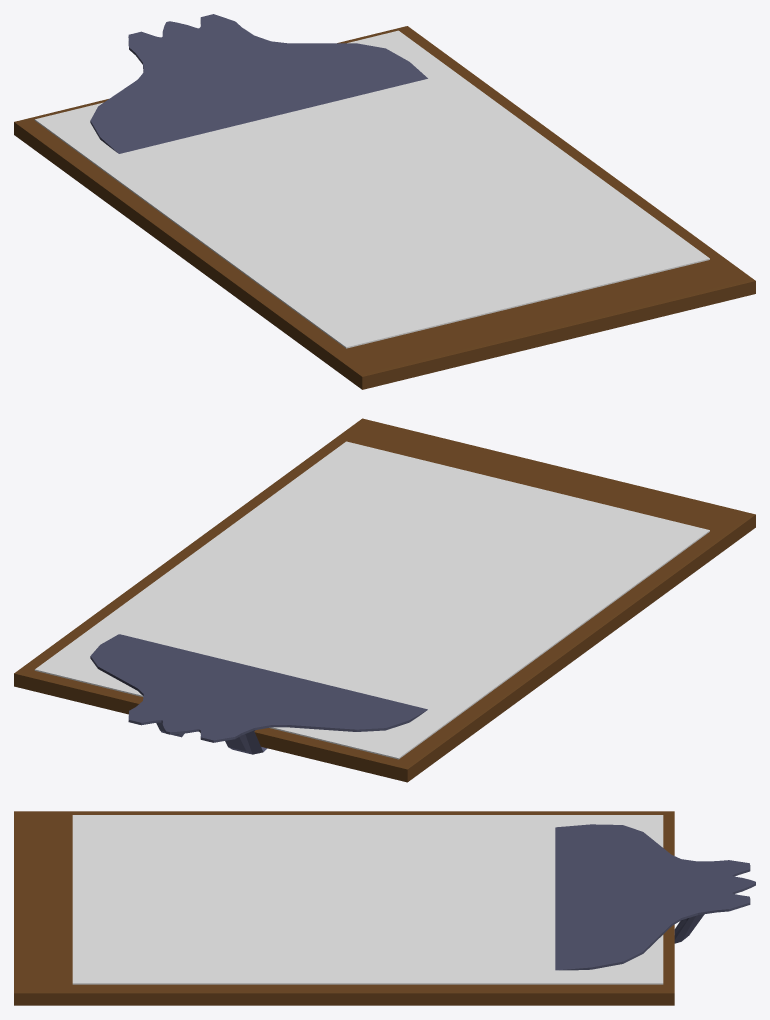
File: clipboard.fbx
3 views of the same model, one above another, from view 1: azimuth 30°, elevation 25°; view 2: azimuth 150°, elevation 25°; view 3: azimuth 270°, elevation 25° (orthographic). The views are drawn at different scales.
Parts seen in each view (by area): view 1: Cube; view 2: Cube; view 3: Cube.
Boxes of the visible parts, x1,y1,x2,y2 form: Cube: [14, 14, 755, 389]; Cube: [14, 418, 755, 782]; Cube: [14, 811, 755, 1005].
Bounding box in the file's own units: 216 × 21.28 × 373.
